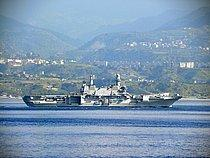MIL_Ship: (20, 71, 184, 109)
